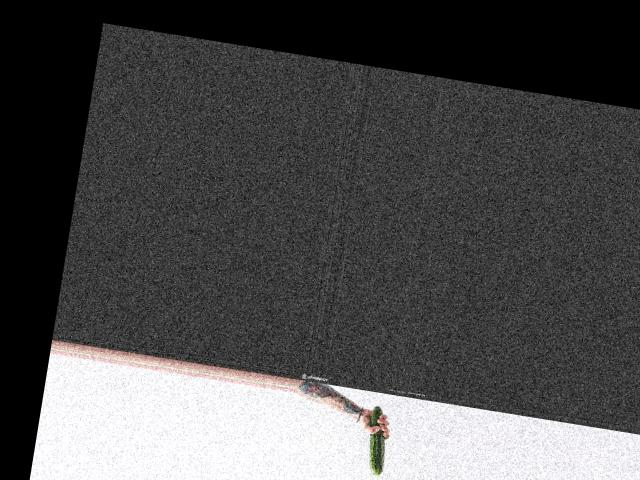cucumber: (362, 405, 393, 476)
